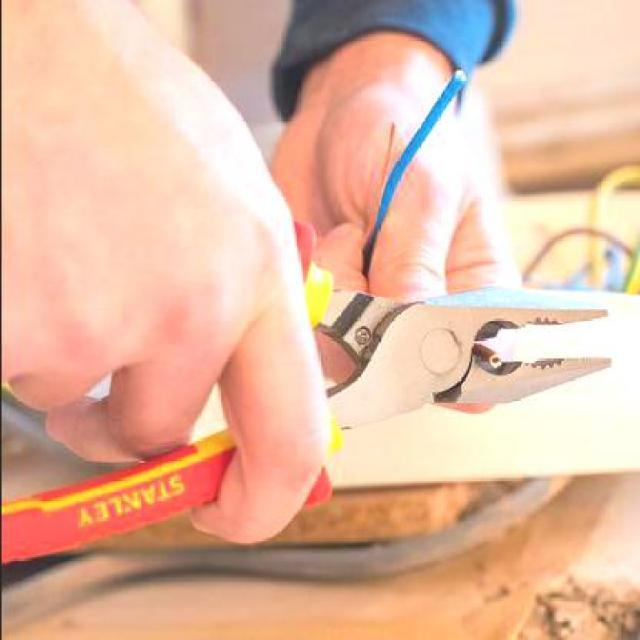pliers: (326, 284, 616, 419)
